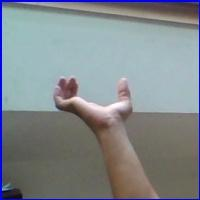B: (49, 69, 142, 128)
